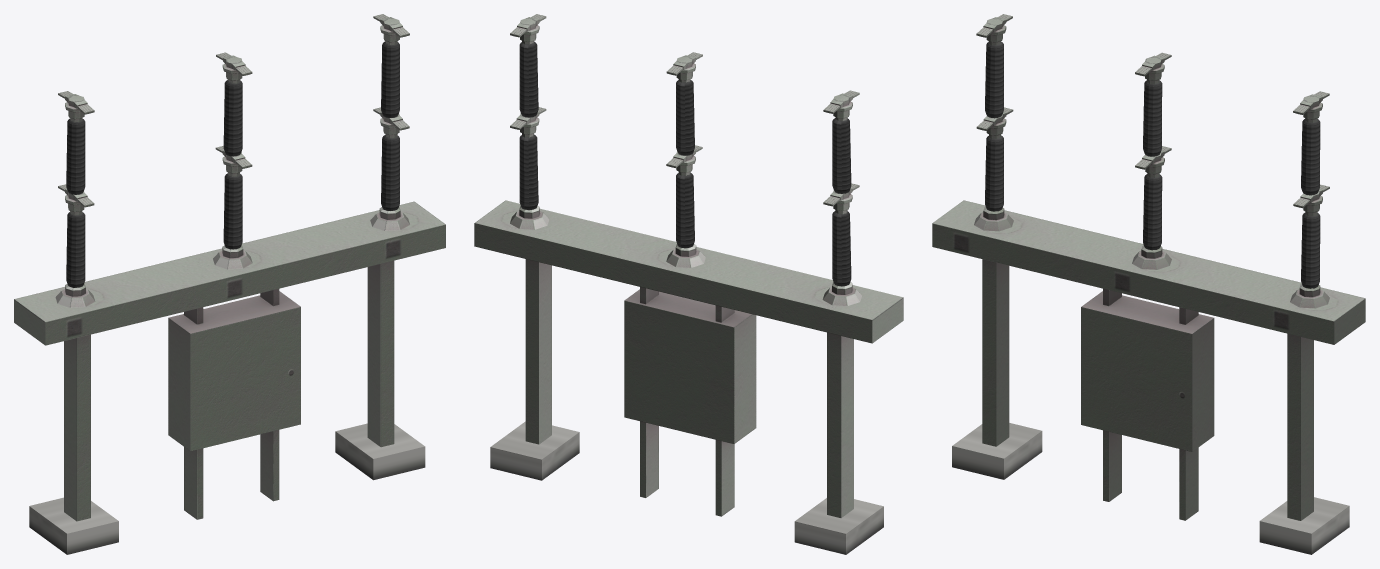
File: 断路器.glb
3 renders of one model, left to right at view 1: azimuth 30°, elevation 25°; view 2: azimuth 150°, elevation 25°; view 3: azimuth 330°, elevation 25°, orthographic.
Size of the model in its own units: 31.2 by 33.09 by 5.12.
3 materials, 3 textured.
